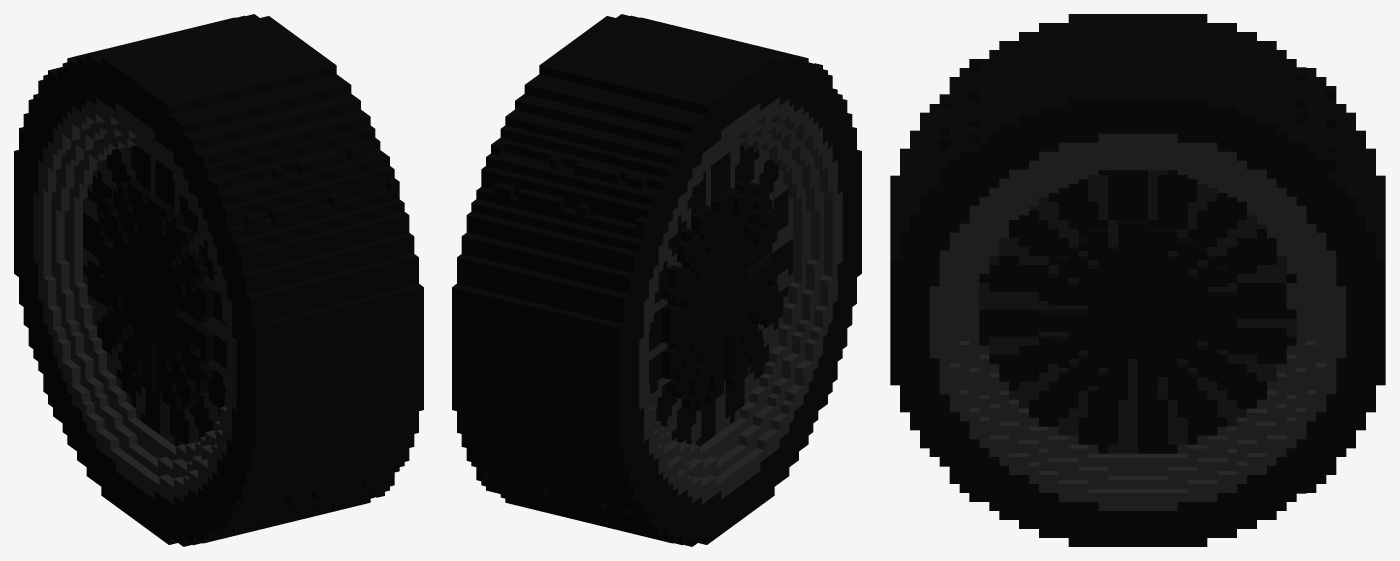
Rendered from WheelObj.obj.
3 views of the same model, side by side, from view 1: azimuth 30°, elevation 25°; view 2: azimuth 150°, elevation 25°; view 3: azimuth 270°, elevation 25° (orthographic). The views are drawn at different scales.
Bounding box in the file's own units: 2 × 5 × 5.
